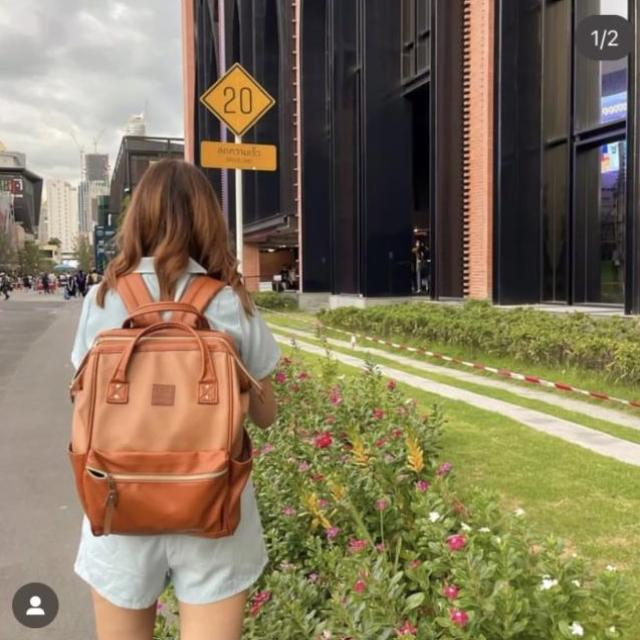Handbag: (59, 298, 265, 545)
